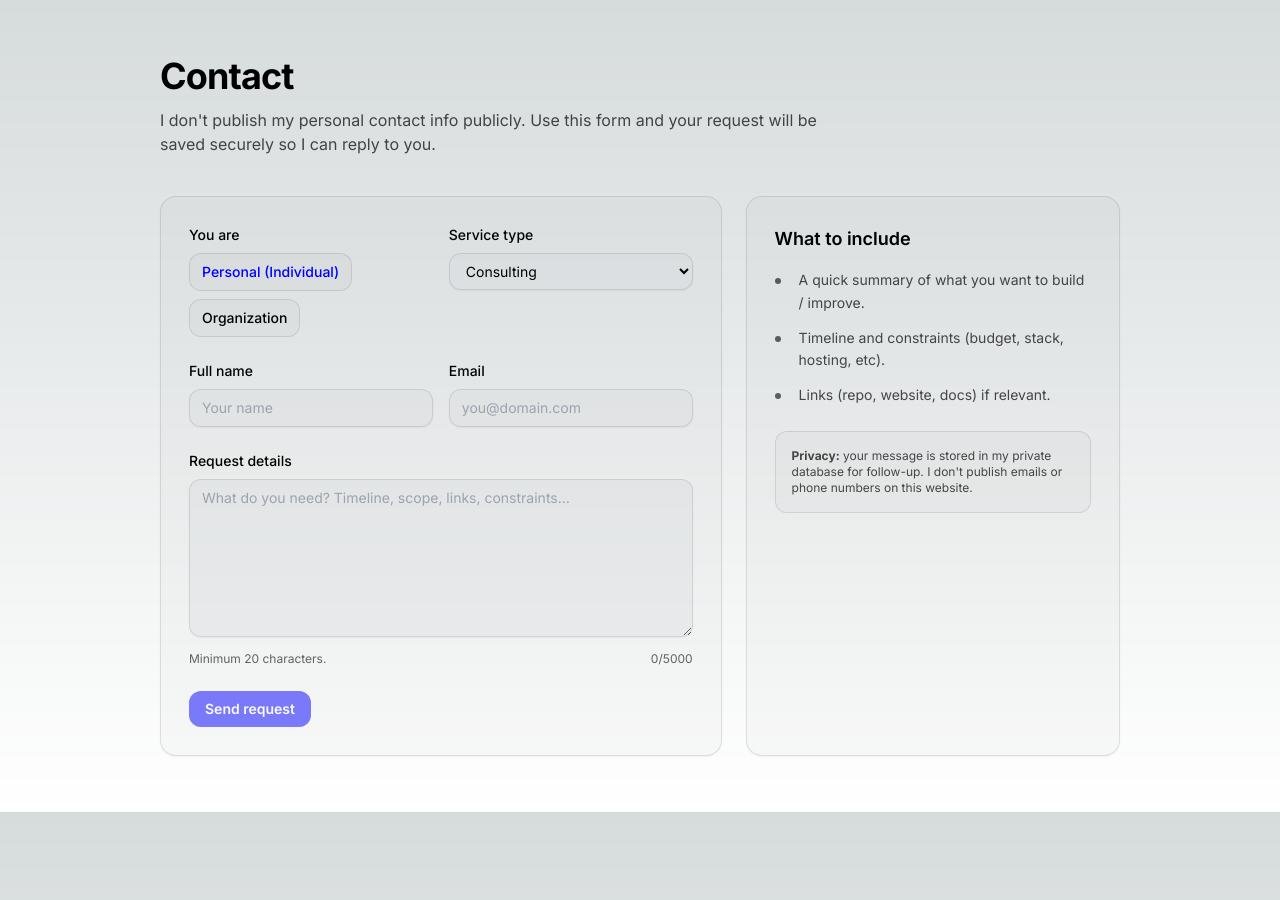
Test: ContactPage › submits the form and shows success
Step 1. Type "John Doe" into the field labelled "Full name" → (311, 408), box [189,389,433,427]
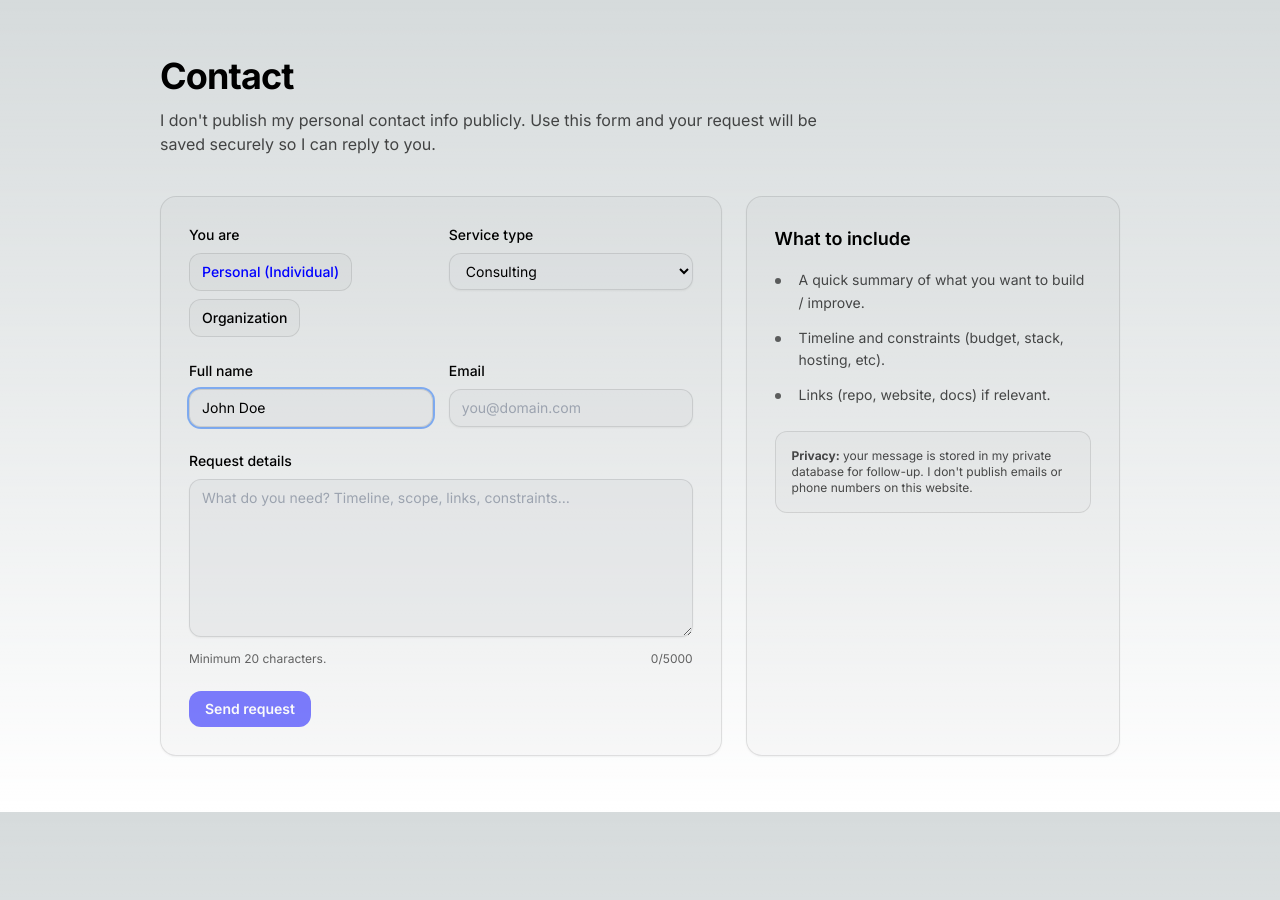
Step 2. Type "john@example.com" into the field labelled "Email" → (571, 408), box [449,389,693,427]
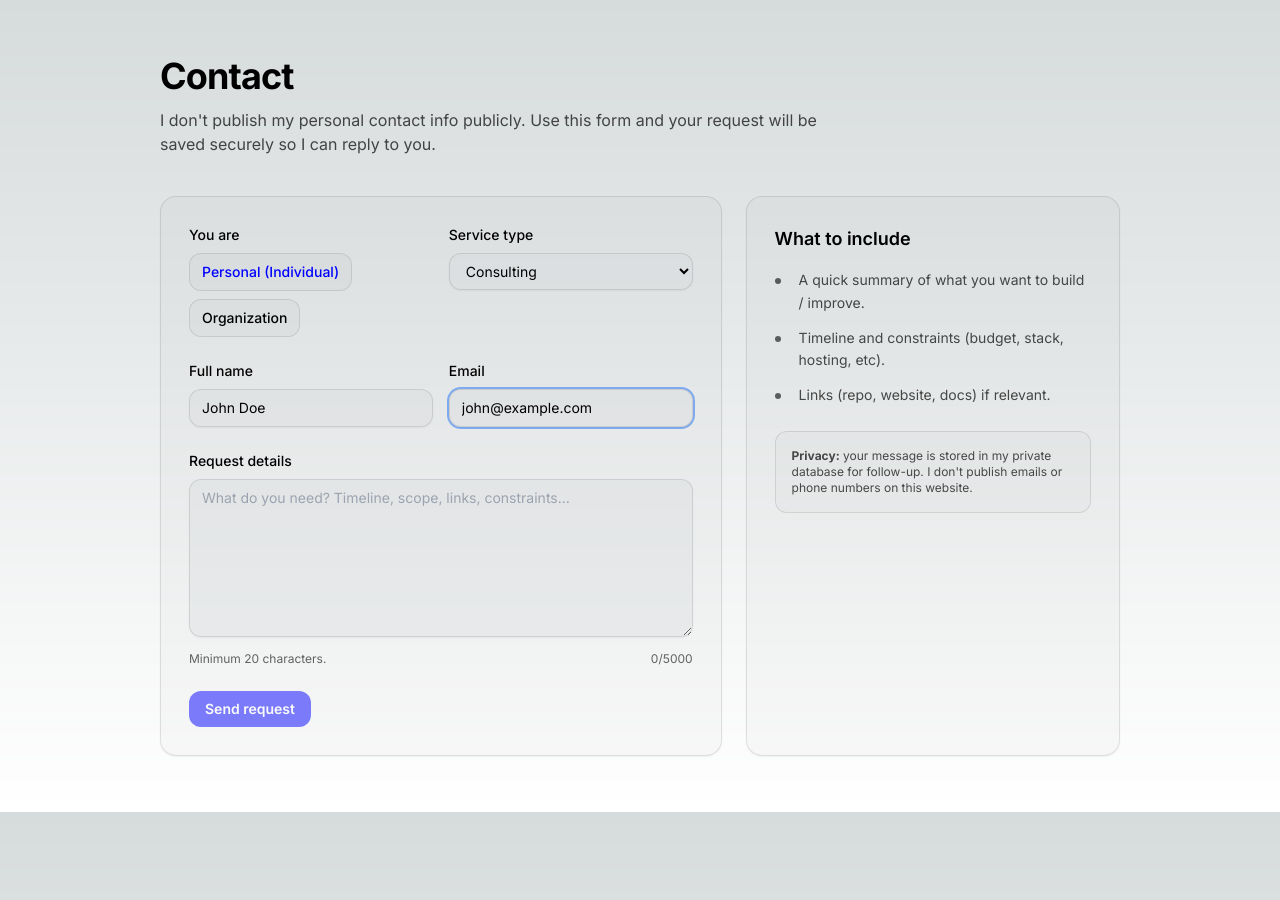
Step 3. Type "Hello, I would like to discuss a small project scope." into the text box labelled "Request details" → (441, 558), box [189,479,693,637]
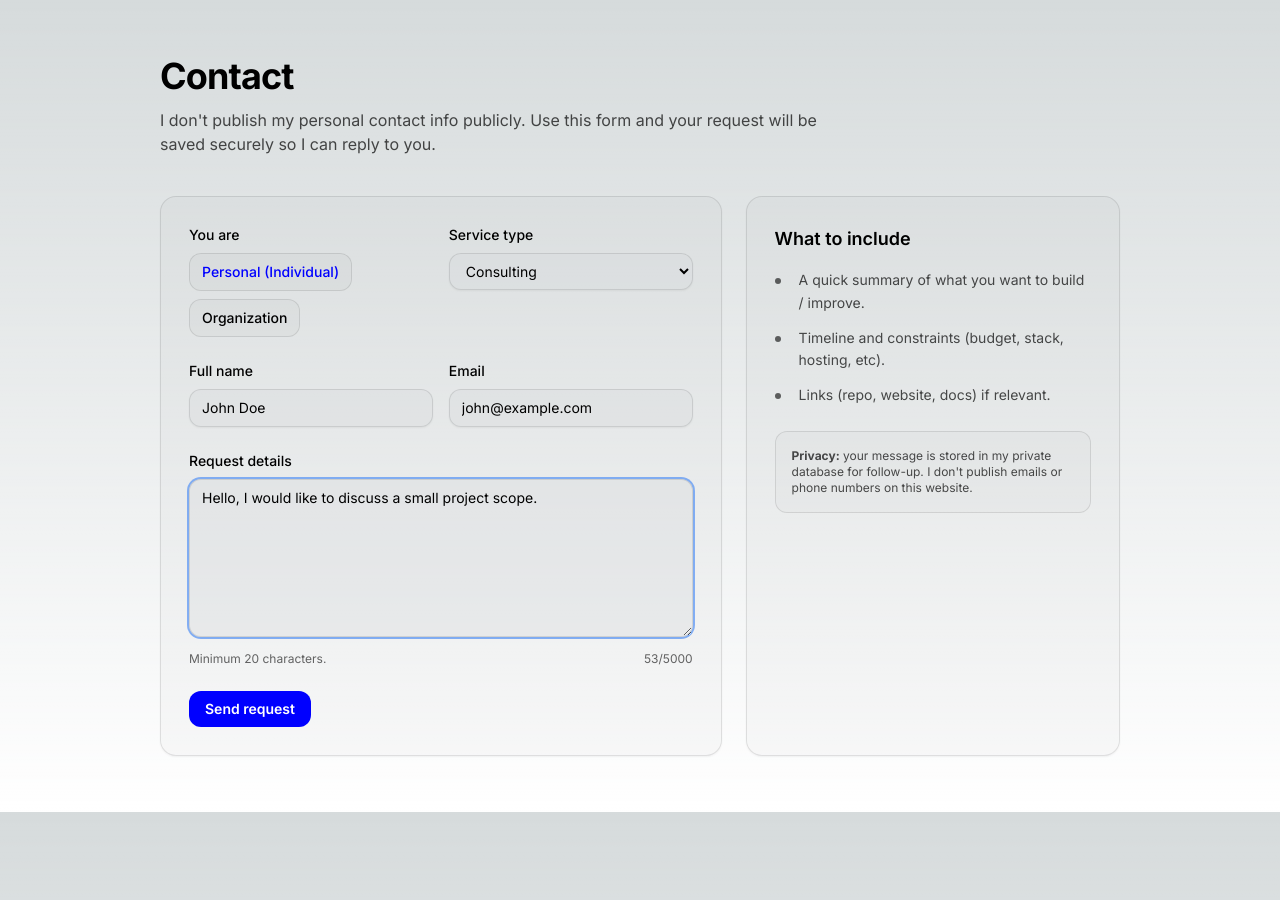
Step 4. Click the button "Send request" → (250, 709), box [189,691,311,727]
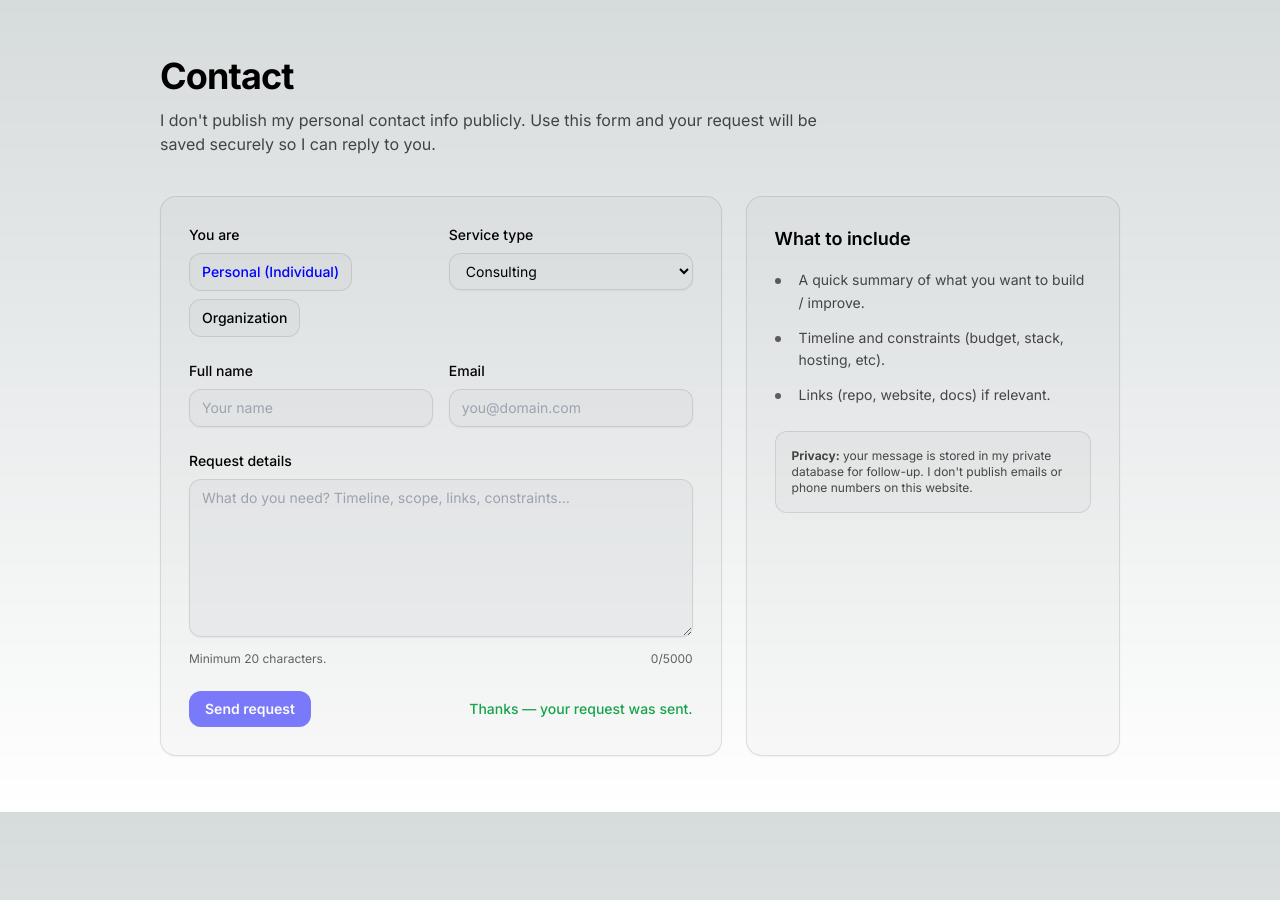
Check: the text "Thanks — your request was sent." is shown, box [469,699,693,719]
